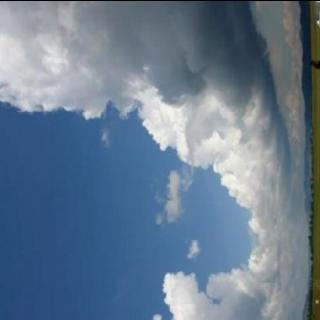Cumulus: (0, 0, 306, 320)
